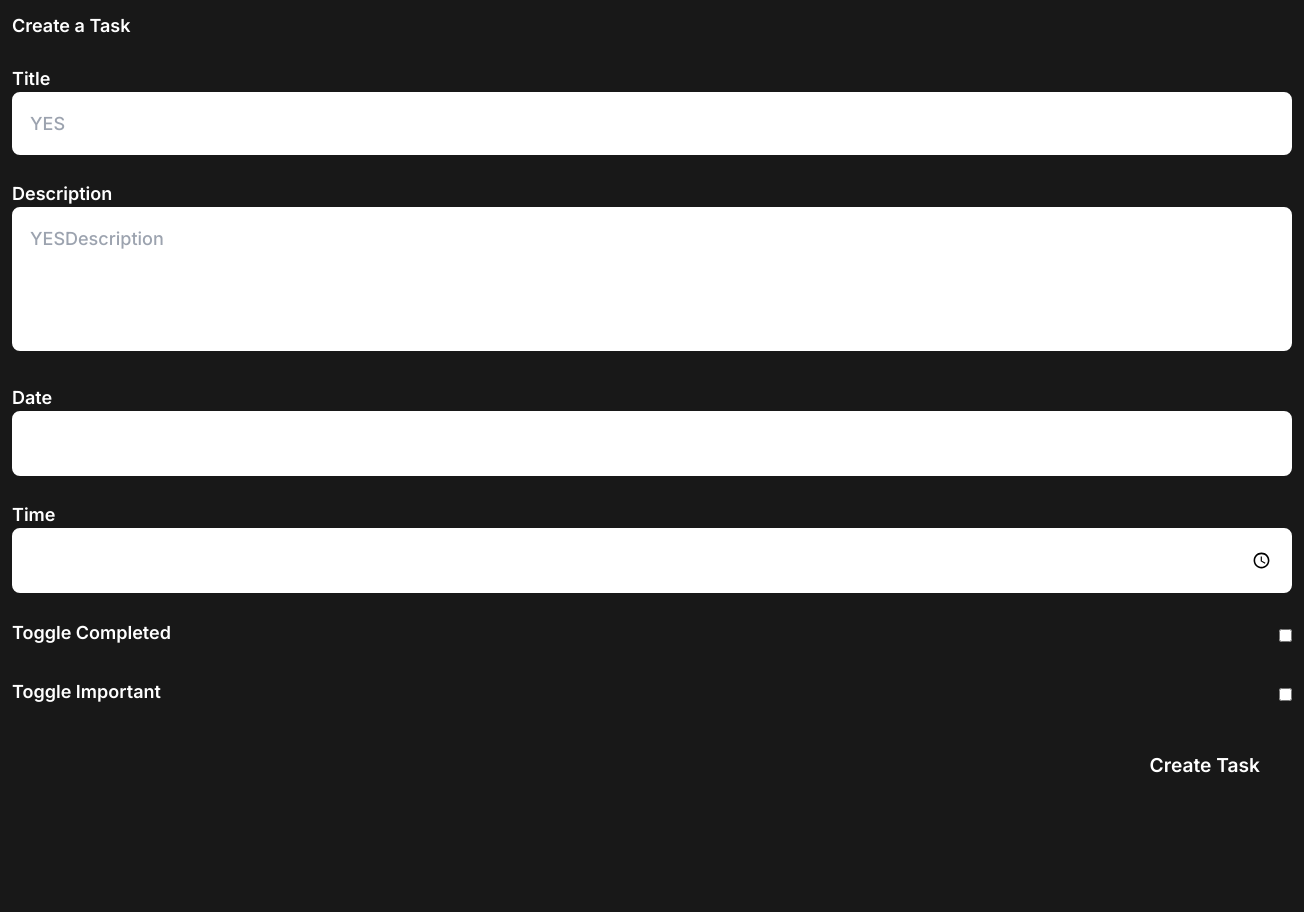
Test: CreateTask Component Validation Tests › displays error if description is empty
Type "Valid Title" into the field labelled "Title" at (652, 123), box [12, 92, 1292, 155]
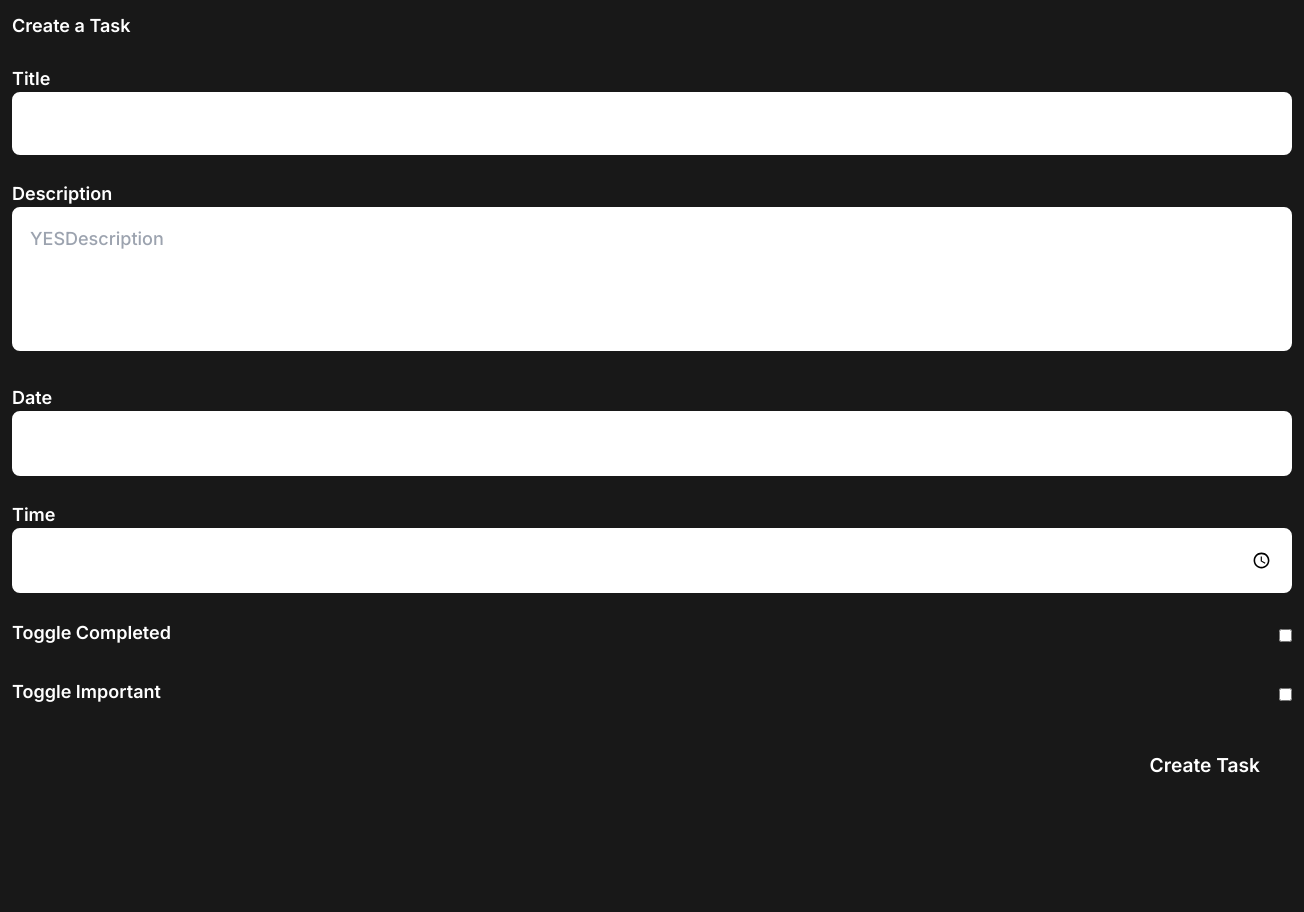
Click the button "Create Task" at (1197, 766), box [1102, 737, 1292, 794]
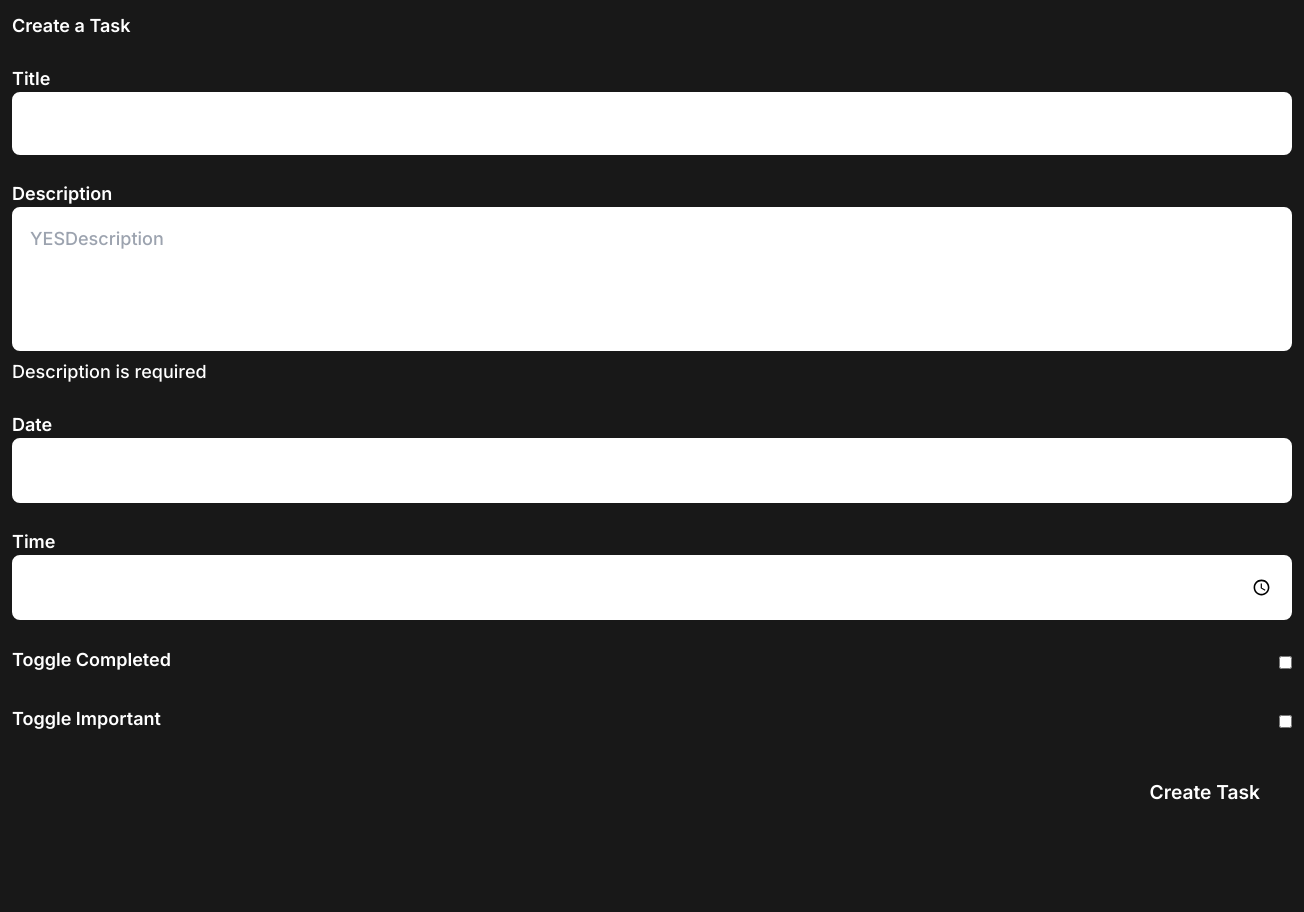
Now the text "Description is required" is shown, box [12, 361, 207, 382]
